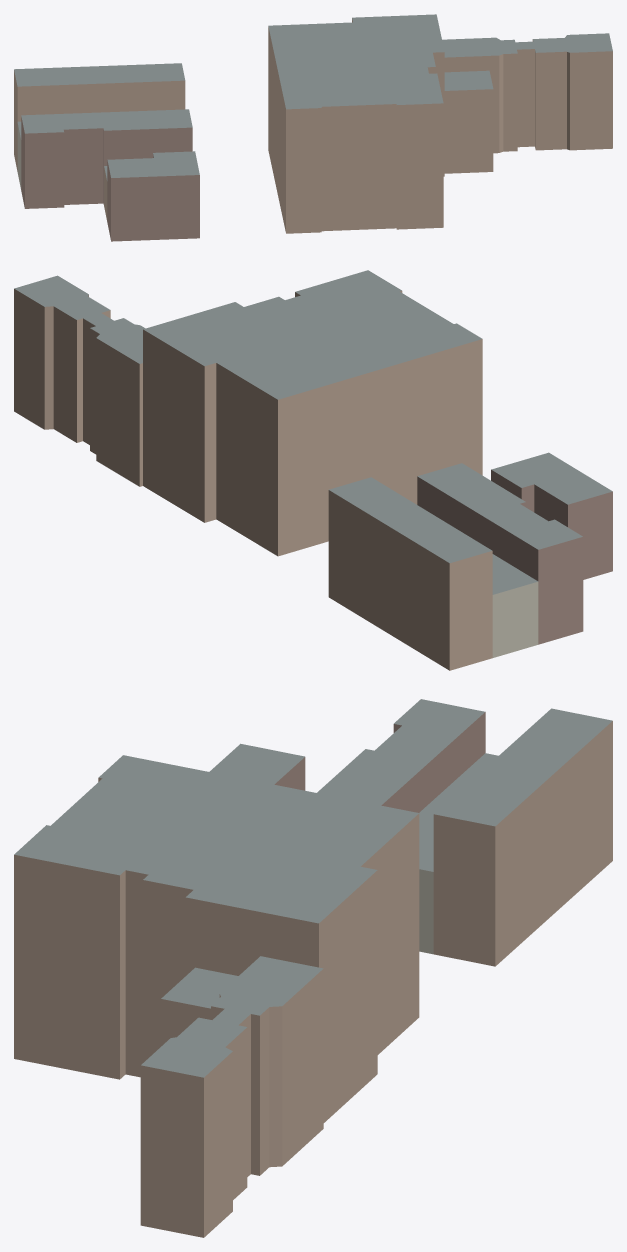
File: context--1--2.gltf
3 views of the same model, one above another, from view 1: azimuth 30°, elevation 25°; view 2: azimuth 150°, elevation 25°; view 3: azimuth 270°, elevation 25° (orthographic). The views are drawn at different scales.
Parts seen in each view (by area): view 1: context--1--2; view 2: context--1--2; view 3: context--1--2.
Boxes of the visible parts, bbox=[...] form: context--1--2: bbox=[14, 14, 612, 241]; context--1--2: bbox=[14, 270, 612, 670]; context--1--2: bbox=[14, 699, 612, 1237].
Size of the model in its own units: 107 by 24.6 by 65.38.
